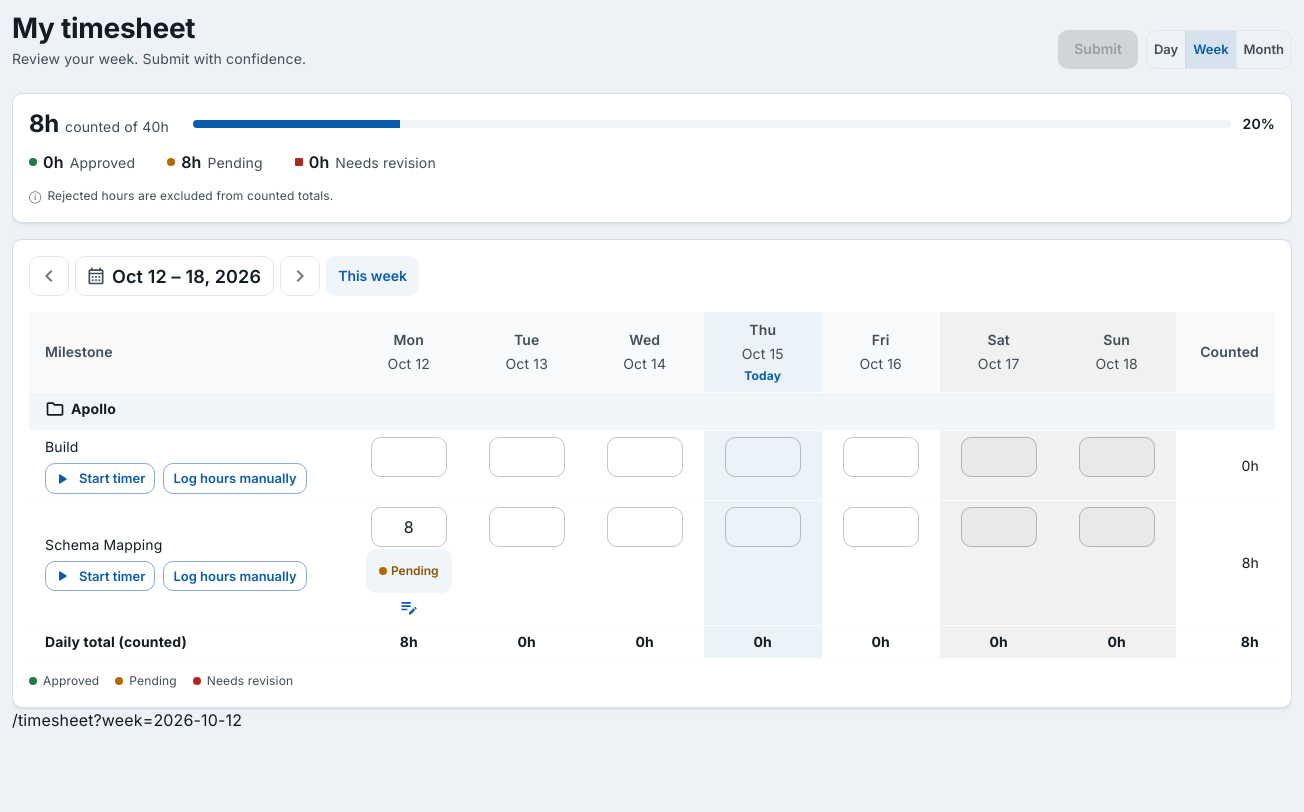
Test: restoring after the week changed underneath (Review Focus 3) › with sessionStorage blocked outright, the page renders and typing works
In the field named "Schema Mapping, Tue Oct 13": (527, 527) [489,507,565,547], type "9"
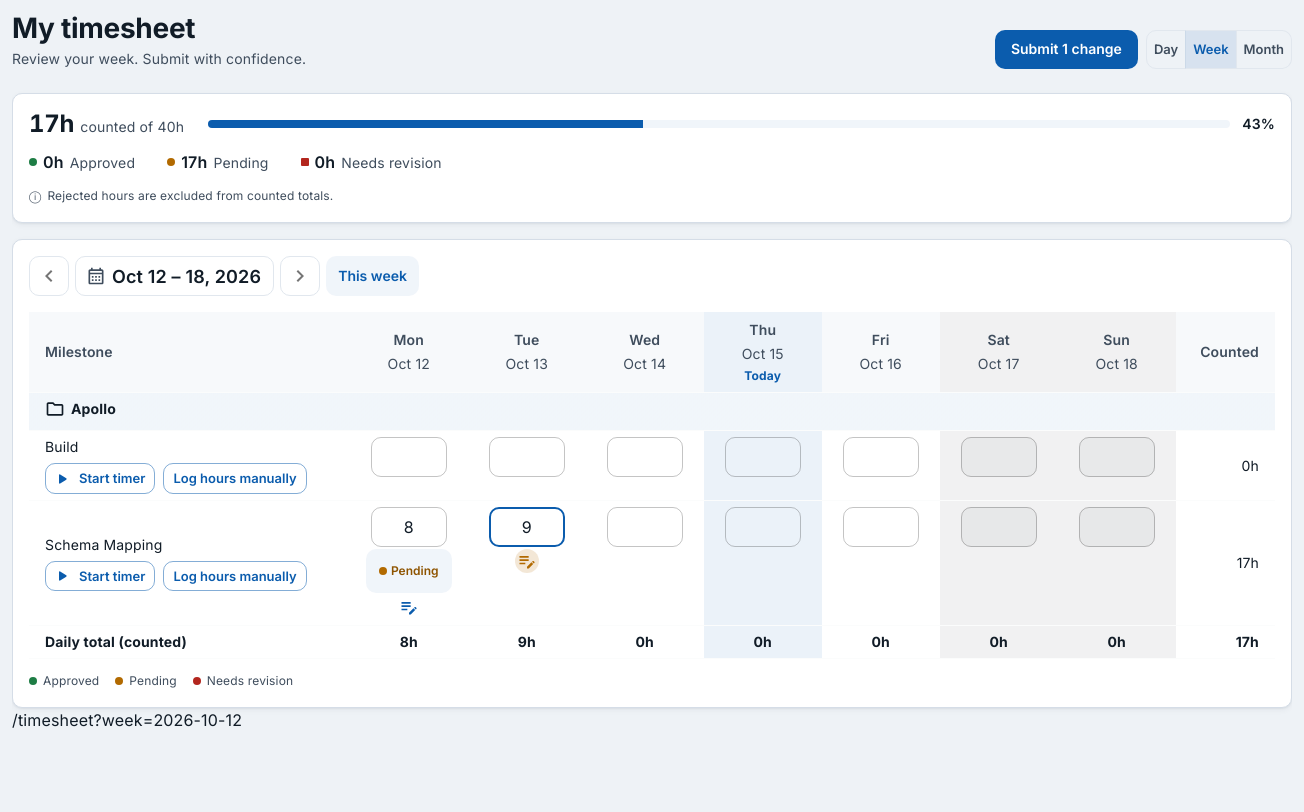
Now the button "Submit 1 change" is enabled, box [995,30,1138,69]
